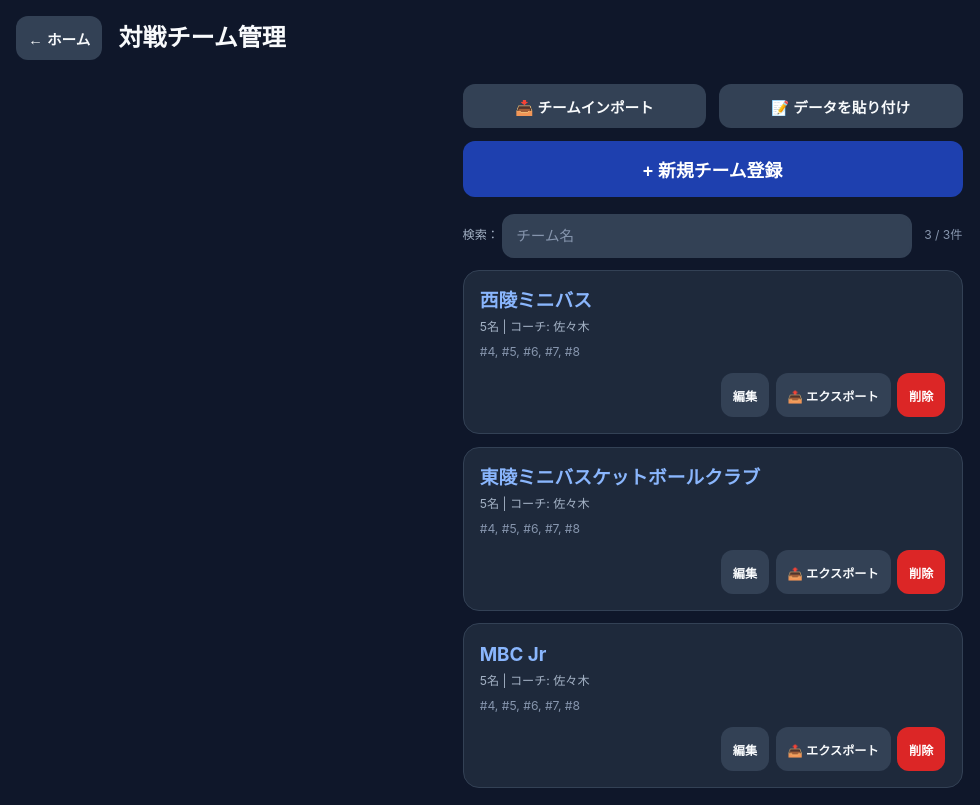
Test: OpponentManager: 名前で探す › 入力すると名前で絞られる
The width and height of the screenshot is (980, 805).
In the search field labelled "検索：": (707, 236) [502, 214, 912, 258], type "西陵"
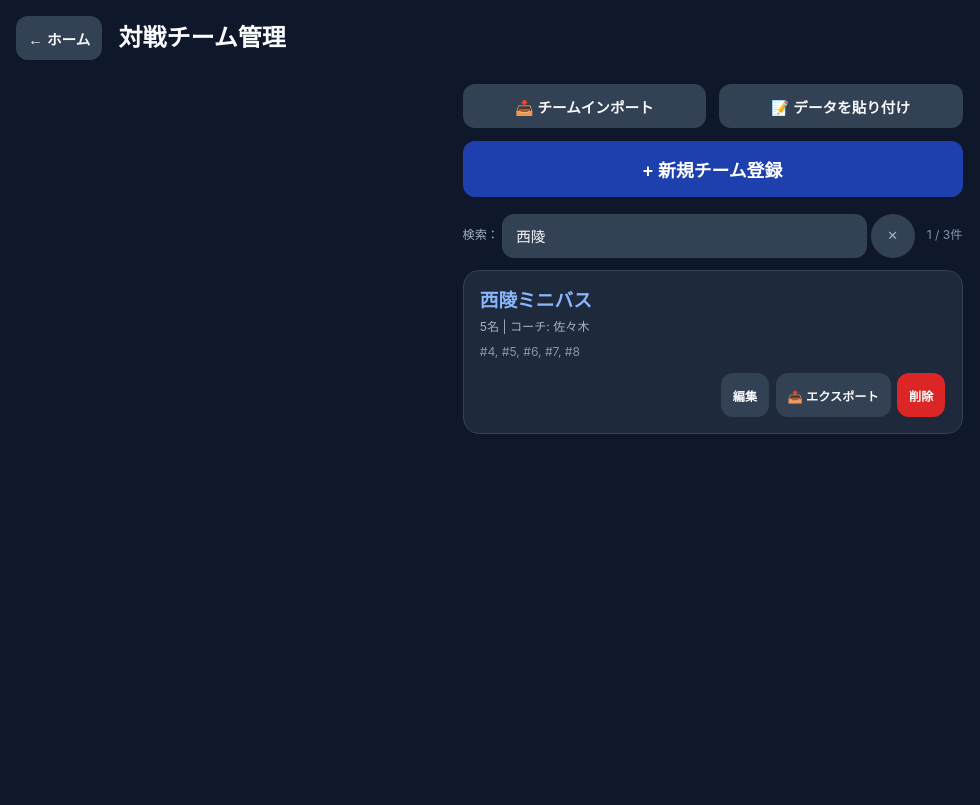
Check: the heading "西陵ミニバス" is shown, box [480, 289, 592, 312]
Check: the heading "東陵ミニバスケットボールクラブ" is gone
Check: the heading "MBC Jr" is gone
